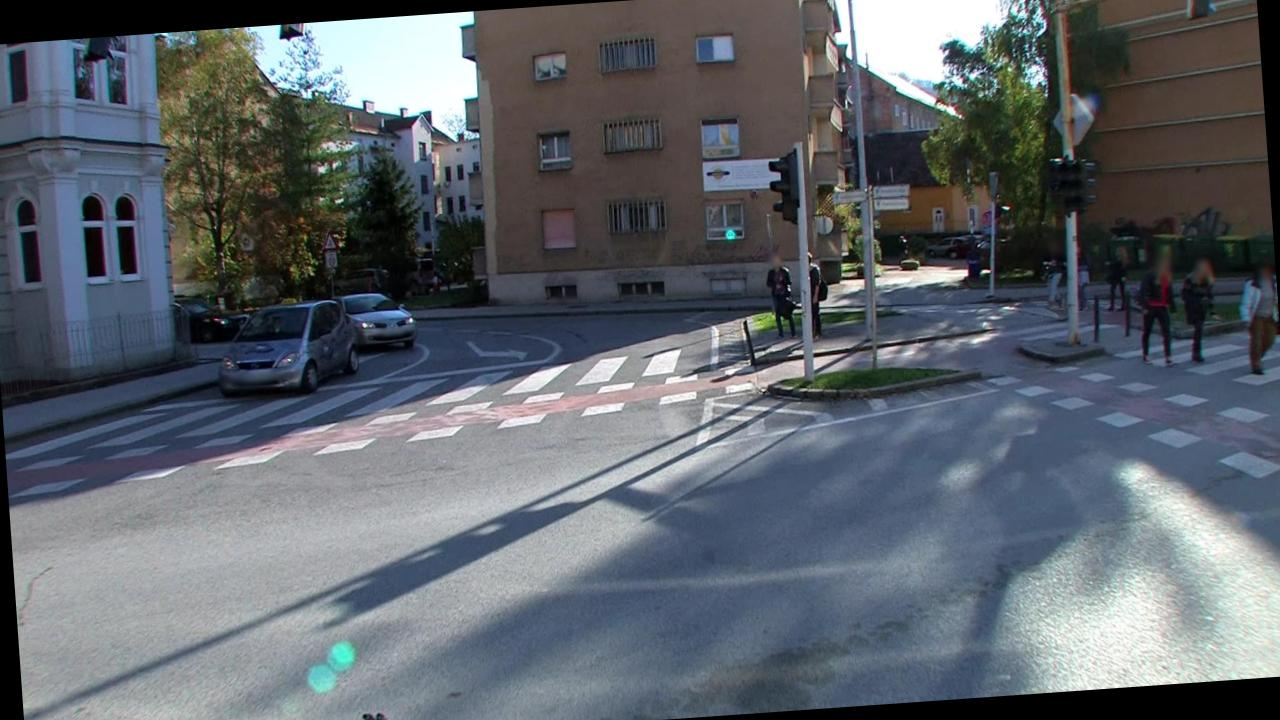Rectangle: (324, 250, 338, 267)
Triangle: (322, 233, 338, 250)
